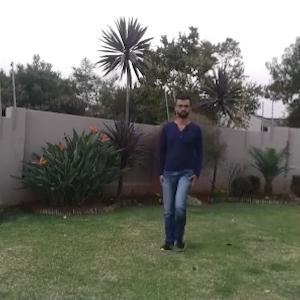follow: (156, 103, 197, 241)
